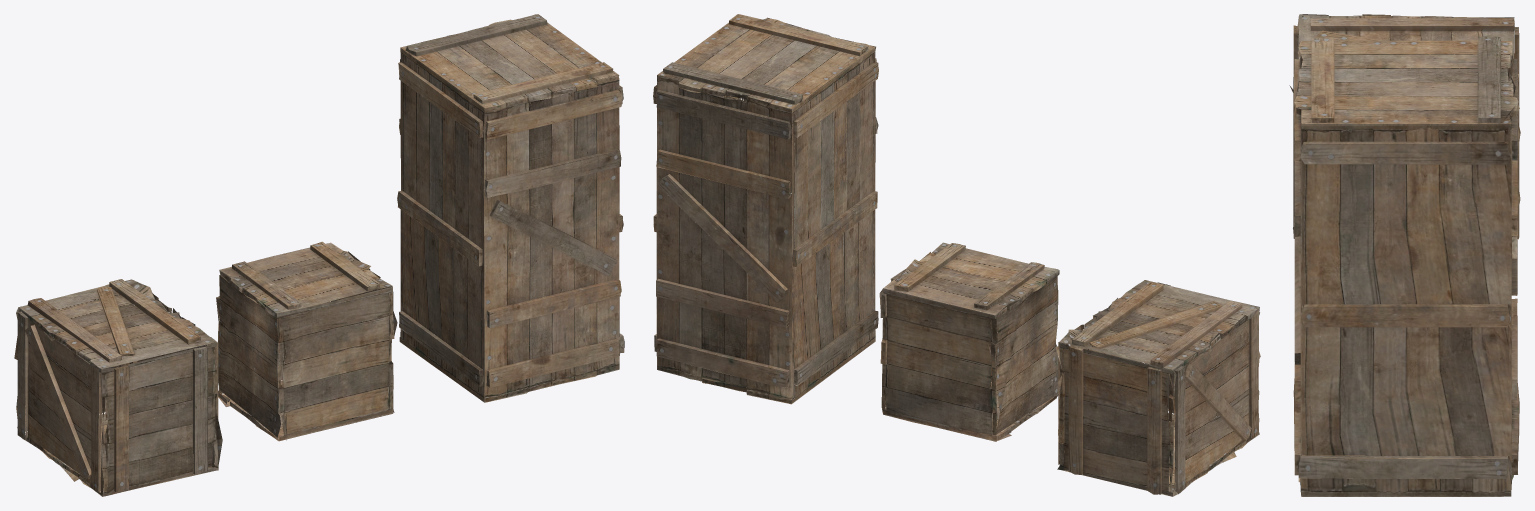
File: casse.glb
3 views of the same model, side by side, from view 1: azimuth 30°, elevation 25°; view 2: azimuth 150°, elevation 25°; view 3: azimuth 270°, elevation 25° (orthographic). The views are drawn at different scales.
Visible parts, largest first — view 1: box, box2, box1; view 2: box, box2, box1; view 3: box, box2.
Part boxes in pixels (left/top/right/bottom): box: left=397, top=14, right=624, bottom=402; box2: left=14, top=279, right=222, bottom=496; box1: left=216, top=241, right=397, bottom=441; box: left=653, top=14, right=878, bottom=404; box2: left=1055, top=280, right=1260, bottom=496; box1: left=879, top=242, right=1059, bottom=441; box: left=1293, top=35, right=1519, bottom=496; box2: left=1289, top=14, right=1520, bottom=239.
Bounding box in the file's own units: 1.14 × 0.624 × 0.3432.
1 material, 1 textured.
